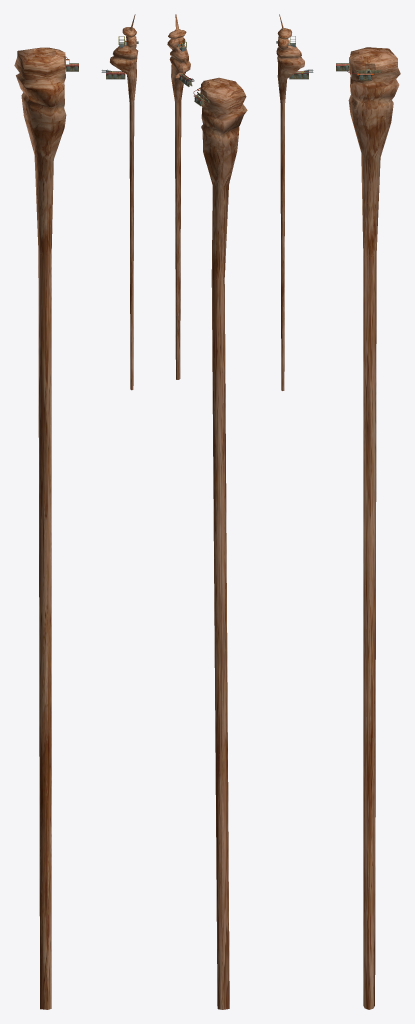
The model's file is Bullet Station 16.fbx.
3 views of the same model, side by side, from view 1: azimuth 90°, elevation 25°; view 2: azimuth 210°, elevation 25°; view 3: azimuth 270°, elevation 25° (orthographic). The views are drawn at different scales.
Visible parts, largest first — view 1: STG08_ON_19; view 2: STG08_ON_19; view 3: STG08_ON_19.
Boxes of the visible parts, x1,y1,x2,y2 form: STG08_ON_19: [14, 14, 138, 1009]; STG08_ON_19: [167, 14, 247, 1009]; STG08_ON_19: [276, 14, 400, 1009].
Bounding box in the file's own units: 164238 × 3392472 × 385224.
